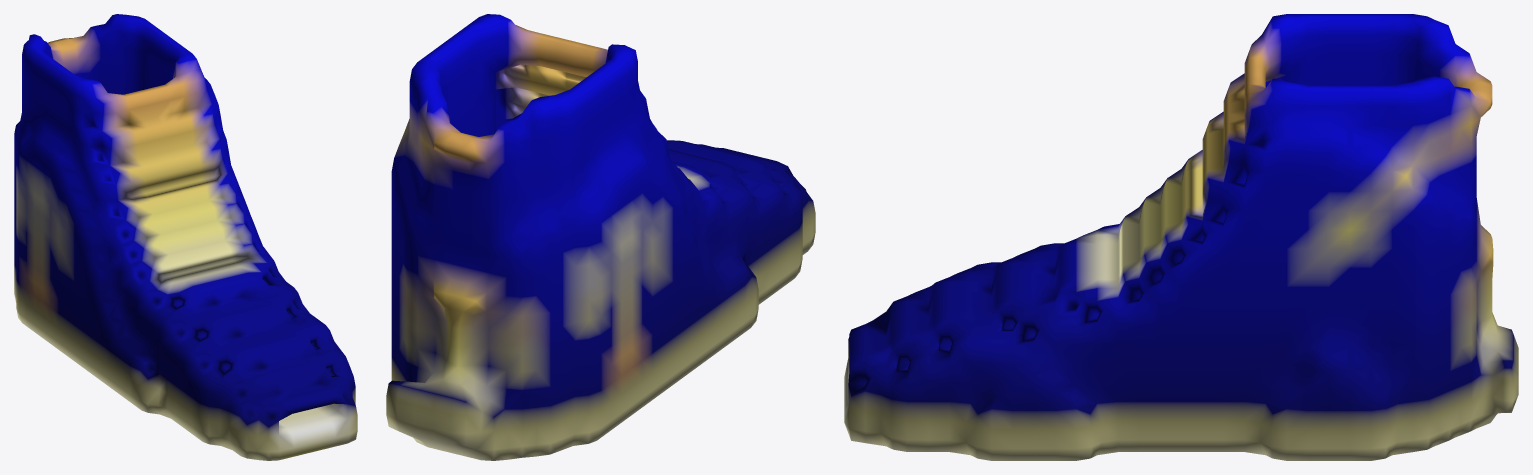
3 views of the same model, side by side, from view 1: azimuth 30°, elevation 25°; view 2: azimuth 150°, elevation 25°; view 3: azimuth 270°, elevation 25° (orthographic). The views are drawn at different scales.
Size of the model in its own units: 0.6 by 0.94 by 1.6.
